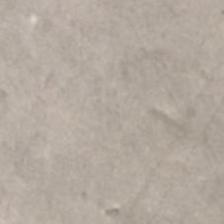Non_Crack: (33, 35, 207, 196)
